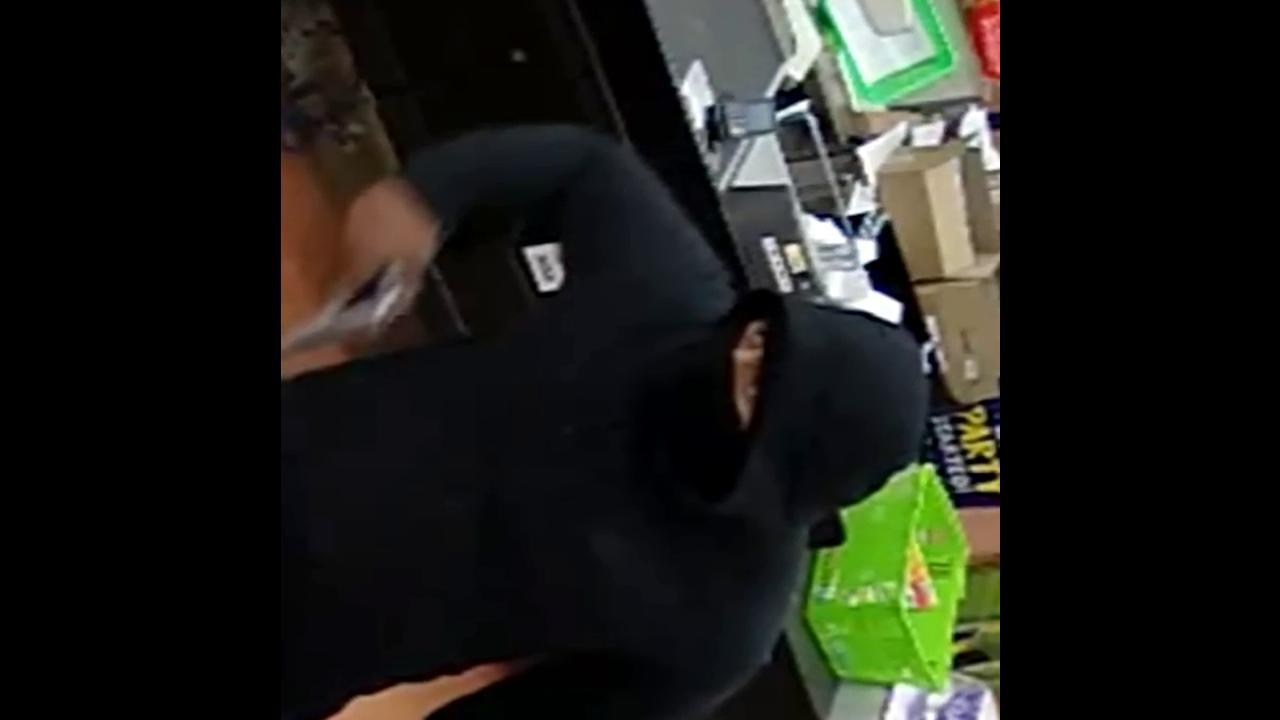gun: (280, 240, 436, 384)
